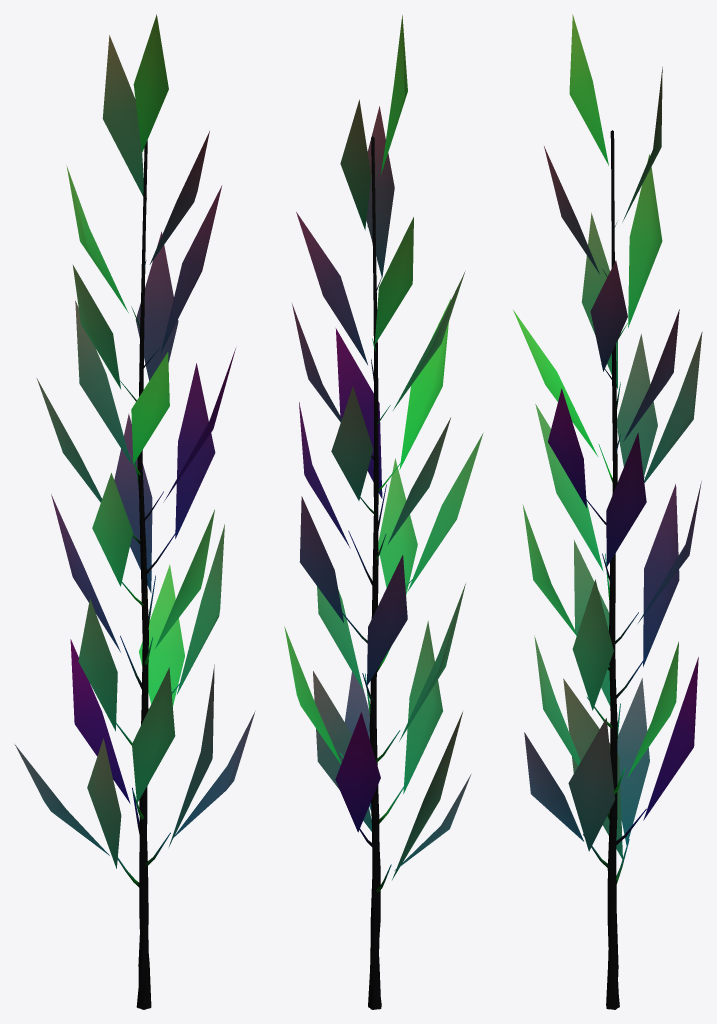
File: abstracttree3.obj
3 renders of one model, left to right at view 1: azimuth 30°, elevation 25°; view 2: azimuth 150°, elevation 25°; view 3: azimuth 270°, elevation 25°, orthographic. The views are drawn at different scales.
Visible parts, largest first — view 1: tree; view 2: tree; view 3: tree.
Part boxes in pixels (bbox=[...]): tree: bbox=[14, 14, 255, 1009]; tree: bbox=[284, 15, 483, 1009]; tree: bbox=[513, 14, 702, 1009].
Size of the model in its own units: 137 by 679 by 118.
